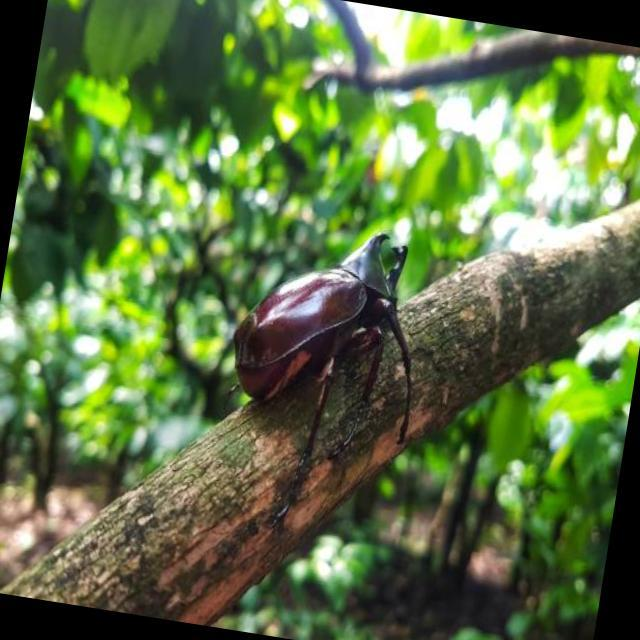Rhino-beetle: (179, 236, 432, 392)
